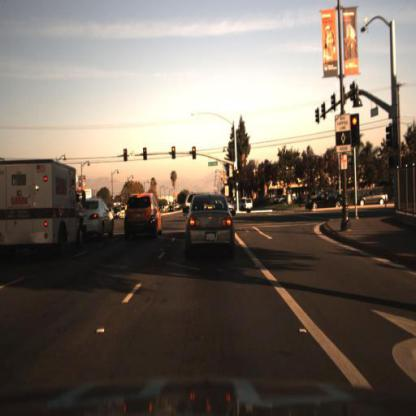car: (1, 154, 88, 265), (178, 189, 238, 266), (122, 191, 169, 248), (85, 197, 115, 246), (303, 186, 347, 212), (181, 187, 196, 222), (237, 194, 259, 215), (113, 204, 121, 227)
trafficLight-Red: (351, 114, 361, 129), (192, 144, 200, 159), (123, 147, 131, 160), (235, 168, 243, 178), (142, 146, 148, 157), (172, 145, 177, 157)
